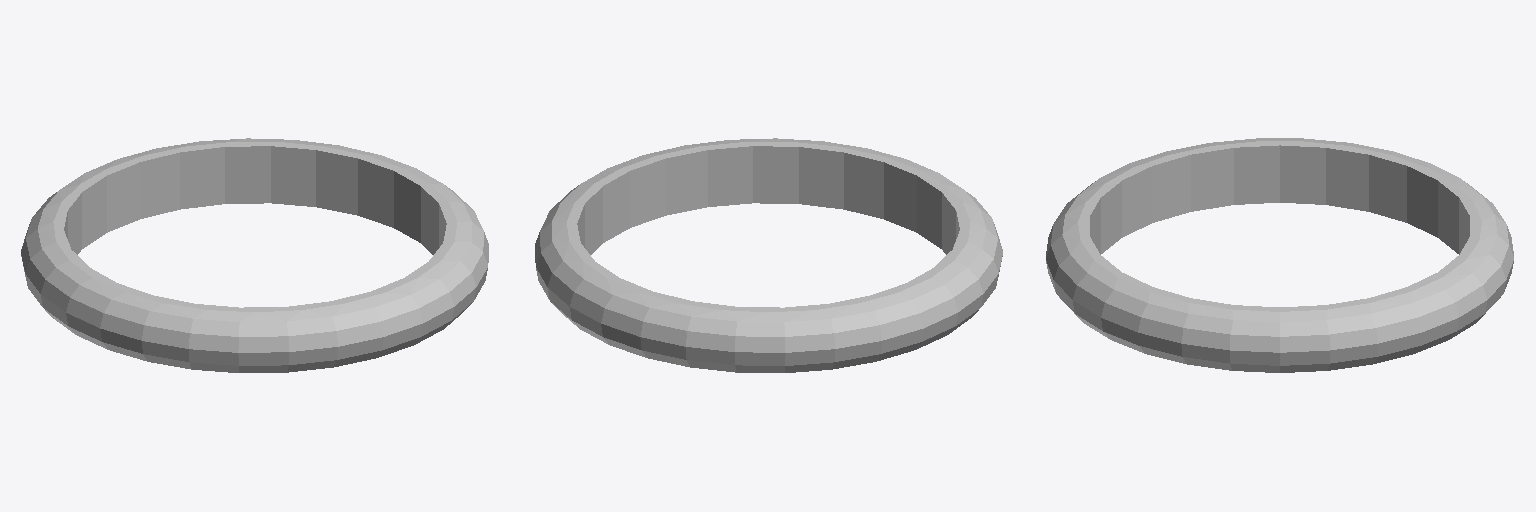
Rendered from Joystick-Left-Ring.obj.
3 views of the same model, side by side, from view 1: azimuth 30°, elevation 25°; view 2: azimuth 150°, elevation 25°; view 3: azimuth 270°, elevation 25° (orthographic).
Visible parts, largest first — view 1: Joystick-Left-Ring; view 2: Joystick-Left-Ring; view 3: Joystick-Left-Ring.
Part boxes in pixels (bbox=[...]): Joystick-Left-Ring: bbox=[21, 138, 488, 372]; Joystick-Left-Ring: bbox=[535, 138, 1002, 372]; Joystick-Left-Ring: bbox=[1046, 138, 1513, 372].
Bounding box in the file's own units: 14.41 × 1.99 × 14.43.